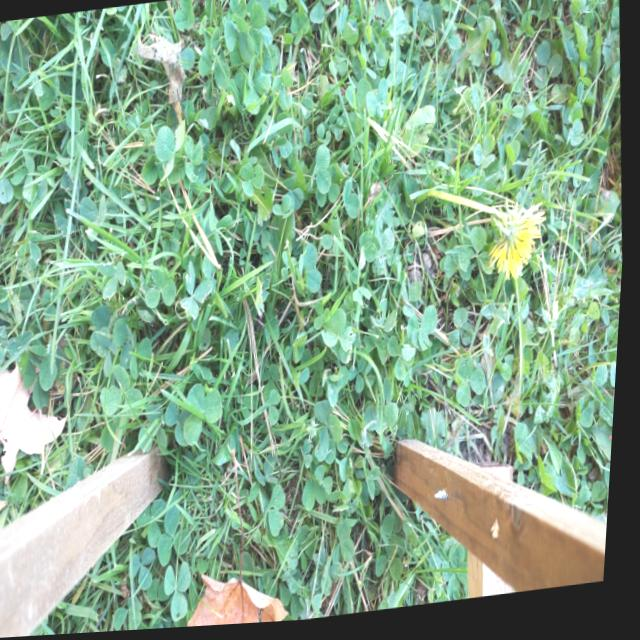base: (420, 182, 448, 220)
